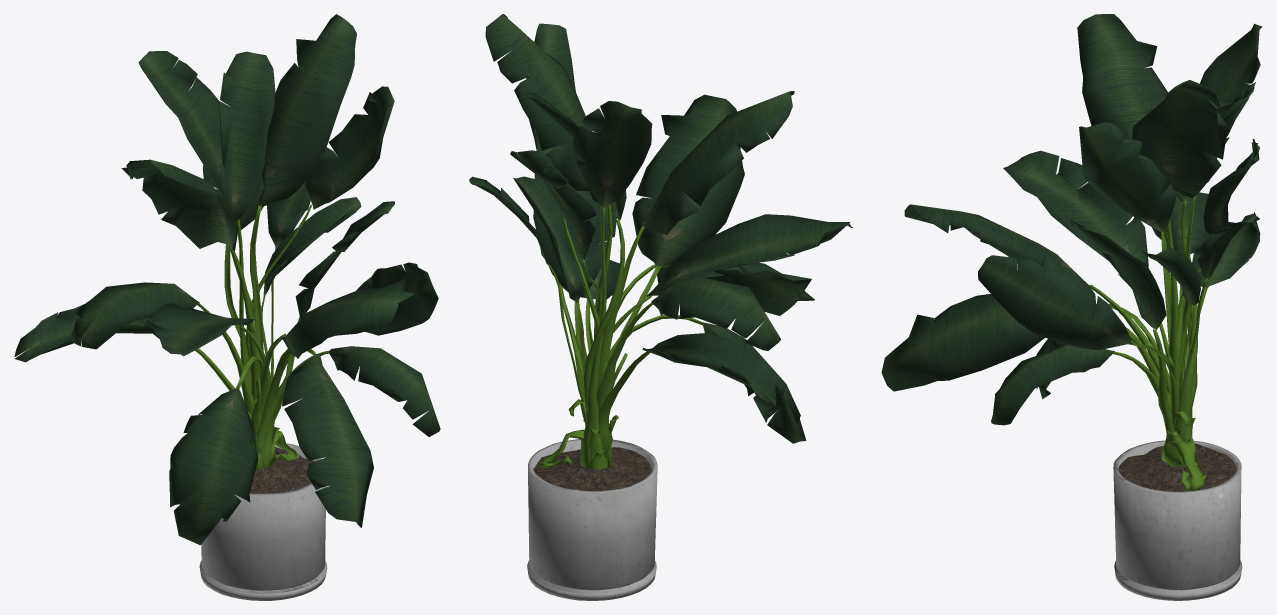
The model's file is Plant_stone.fbx.
The picture shows the model from 3 angles, left to right: view 1: azimuth 30°, elevation 25°; view 2: azimuth 150°, elevation 25°; view 3: azimuth 270°, elevation 25°; orthographic projection.
Parts seen in each view (by area): view 1: Plant leaf, Stone vase, Plant, Dirt, Stone plate; view 2: Plant leaf, Stone vase, Plant, Dirt, Stone plate; view 3: Plant leaf, Stone vase, Plant, Dirt, Stone plate.
Part boxes in pixels (bbox=[...]): Plant leaf: bbox=[14, 14, 440, 545]; Stone vase: bbox=[201, 443, 325, 590]; Plant: bbox=[195, 204, 328, 470]; Dirt: bbox=[250, 447, 314, 493]; Stone plate: bbox=[199, 560, 327, 600]; Plant leaf: bbox=[469, 14, 852, 443]; Stone vase: bbox=[528, 439, 657, 590]; Plant: bbox=[540, 188, 704, 469]; Dirt: bbox=[533, 447, 651, 490]; Stone plate: bbox=[527, 560, 656, 600]; Plant leaf: bbox=[881, 14, 1262, 425]; Stone vase: bbox=[1113, 440, 1241, 590]; Plant: bbox=[1089, 195, 1209, 490]; Dirt: bbox=[1118, 443, 1236, 491]; Stone plate: bbox=[1114, 560, 1242, 600].
Size of the model in its own units: 58.46 by 98.02 by 63.2.
1 material, 1 textured.
